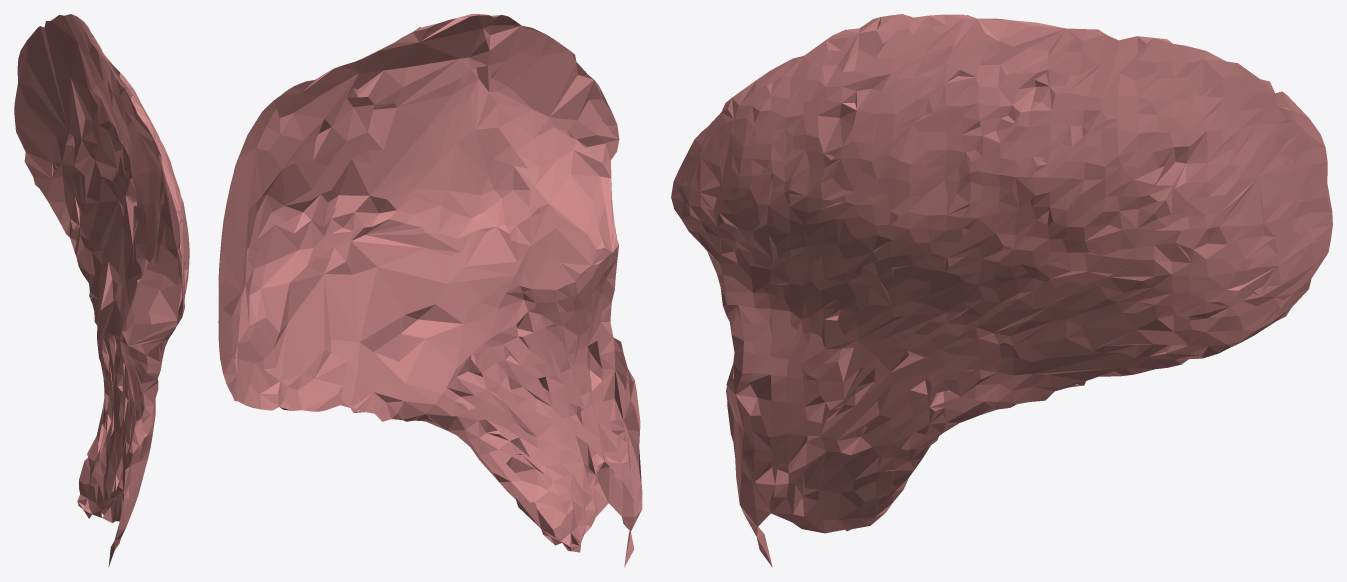
File: Temporalis_muscle.l.glb
The picture shows the model from 3 angles, left to right: view 1: azimuth 30°, elevation 25°; view 2: azimuth 150°, elevation 25°; view 3: azimuth 270°, elevation 25°; orthographic projection. The views are drawn at different scales.
Parts seen in each view (by area): view 1: Temporalis_muscle.l; view 2: Temporalis_muscle.l; view 3: Temporalis_muscle.l.
Part boxes in pixels (left/top/right/bottom): Temporalis_muscle.l: left=14, top=14, right=189, bottom=566; Temporalis_muscle.l: left=218, top=14, right=642, bottom=567; Temporalis_muscle.l: left=671, top=14, right=1332, bottom=567.
Bounding box in the file's own units: 0.0382 × 0.1148 × 0.1129.
